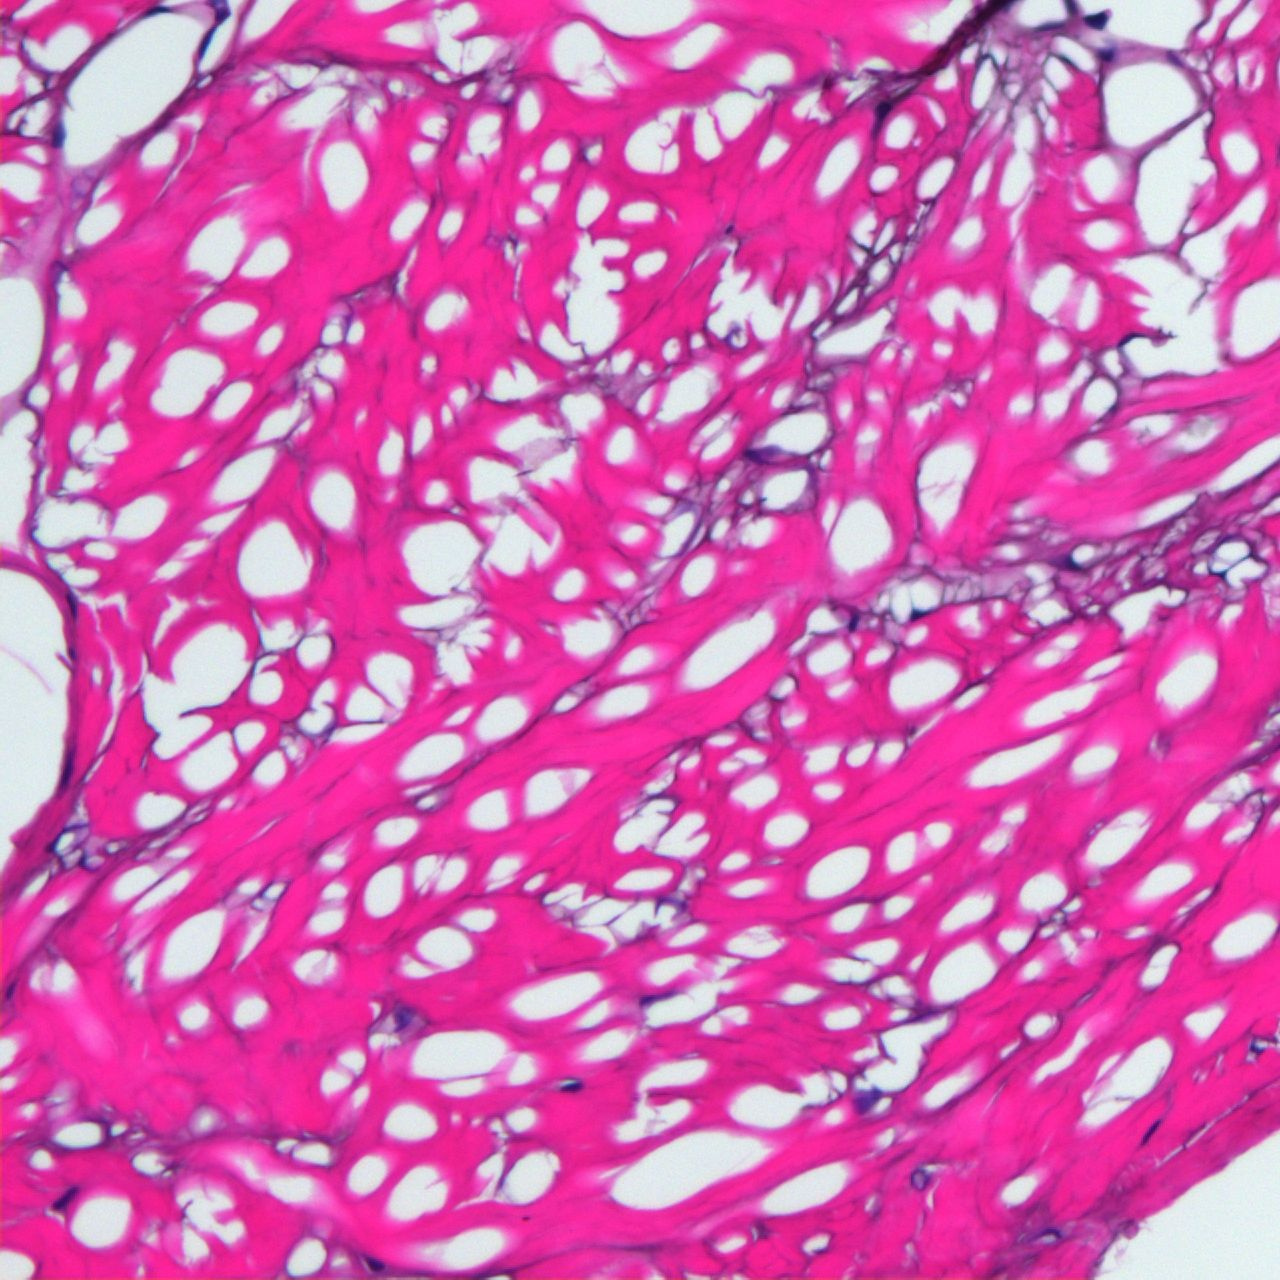nucleus-HE: (853, 1082, 886, 1114), (194, 24, 217, 58), (51, 1184, 78, 1211), (1138, 1118, 1162, 1146), (871, 97, 894, 121), (64, 591, 81, 618), (1084, 11, 1109, 28), (362, 1255, 385, 1273), (52, 122, 66, 148), (1063, 556, 1082, 574), (144, 4, 169, 16), (908, 605, 923, 619), (559, 1082, 581, 1091), (1098, 50, 1113, 60)
